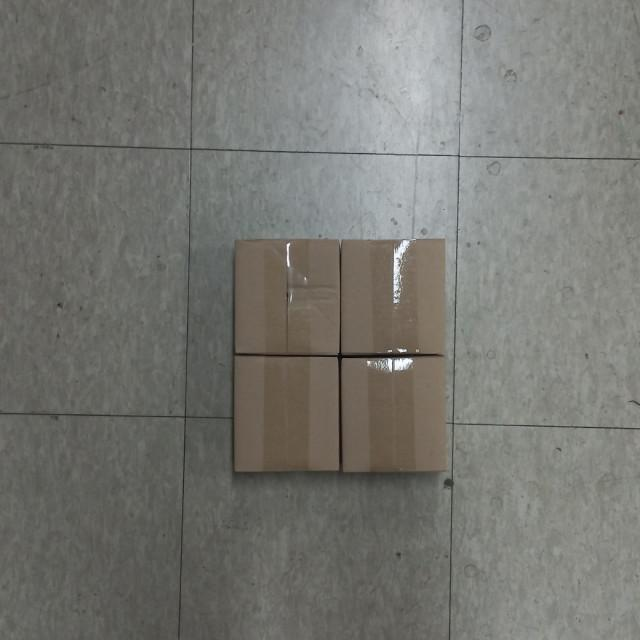box: (230, 235, 347, 359), (233, 355, 346, 476), (340, 236, 446, 359), (336, 360, 449, 473)
